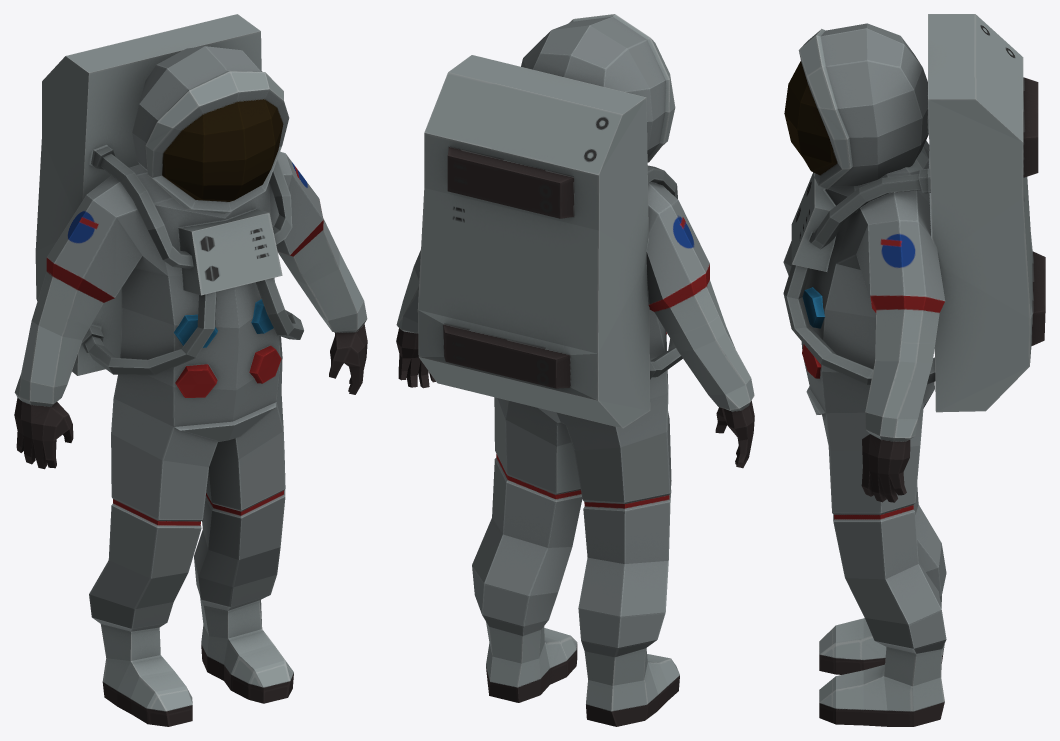
Rendered from Astronaut.gltf.
The picture shows the model from 3 angles, left to right: view 1: azimuth 30°, elevation 25°; view 2: azimuth 150°, elevation 25°; view 3: azimuth 270°, elevation 25°; orthographic projection.
Visible parts, largest first — view 1: node-0; view 2: node-0; view 3: node-0.
Boxes of the visible parts, x1,y1,x2,y2 form: node-0: (14,14,367,726); node-0: (396,14,754,726); node-0: (783,14,1045,726).
Size of the model in its own units: 2.24 by 4.02 by 1.45.
1 material, 1 textured.
